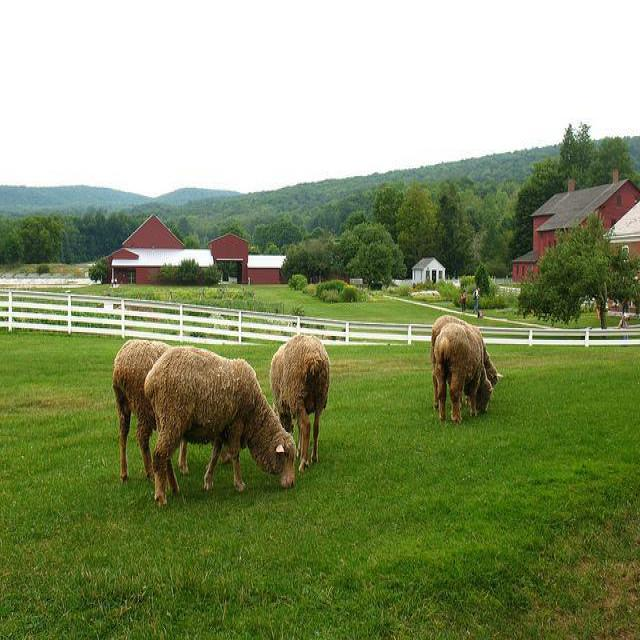Sheep: (141, 348, 299, 511), (114, 340, 176, 484), (270, 336, 328, 472), (431, 315, 506, 408), (434, 323, 493, 425)
